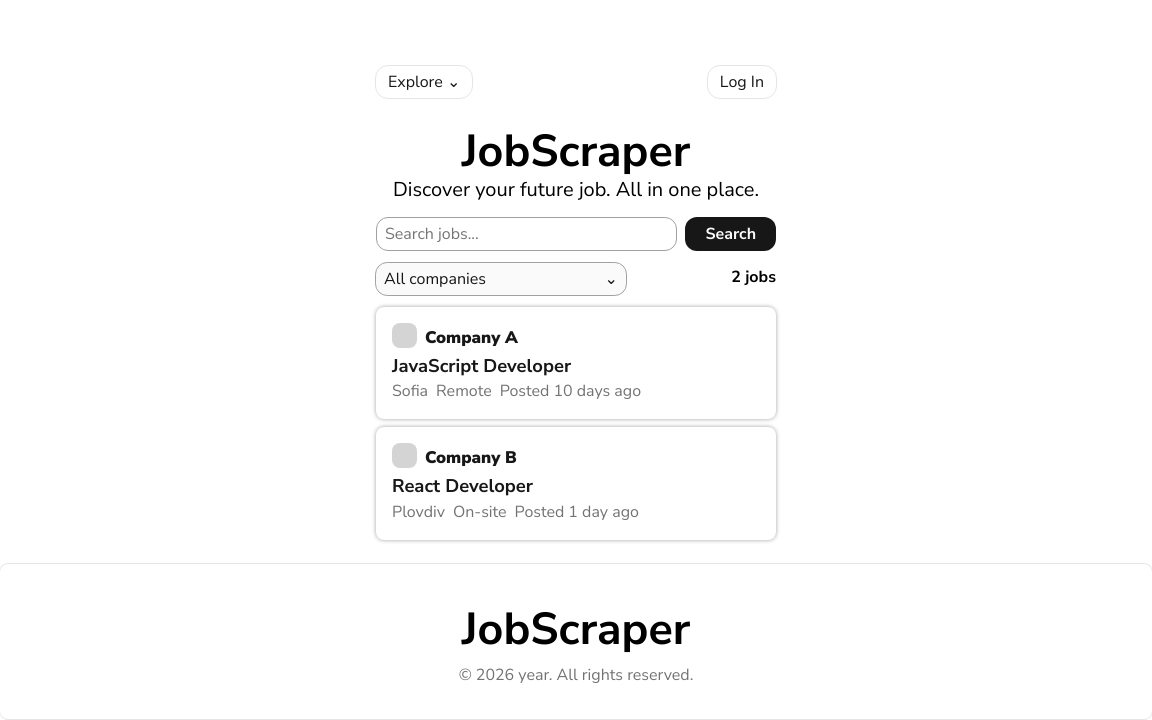
Scenario: render HomePage › should render one job for company A if you search for it
In the field named "query": (527, 234) [376,217,677,251], type "javascript"
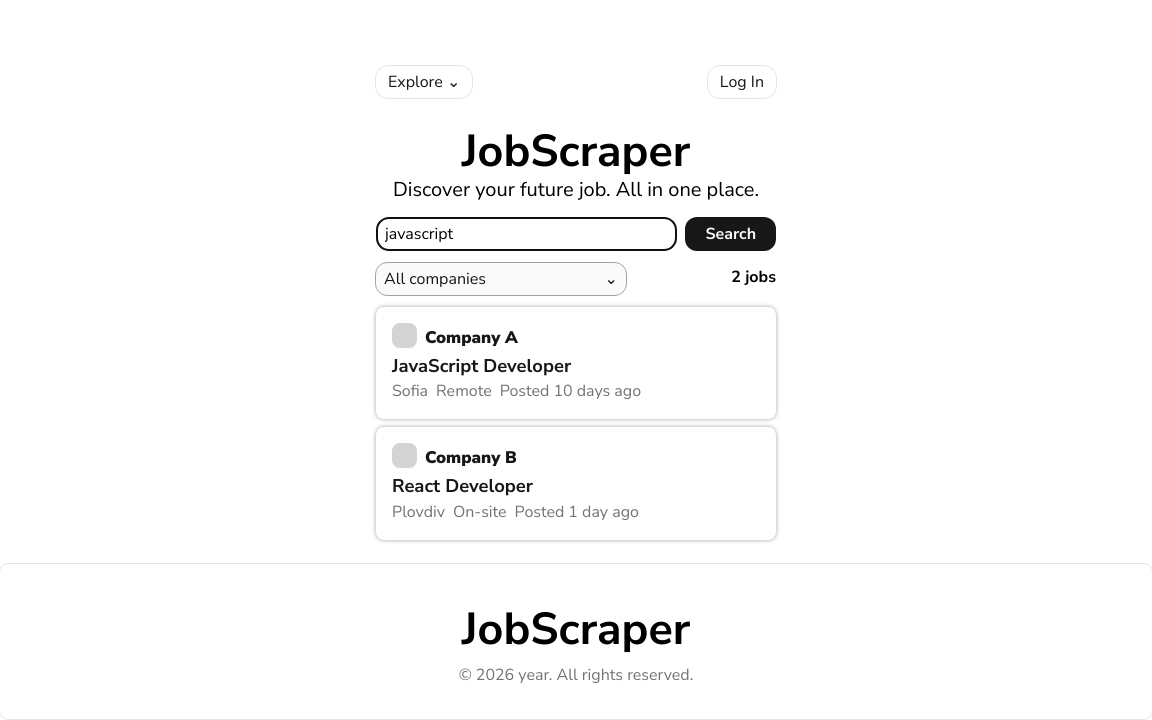
Click the button "Search": click(731, 234) [685,217,776,251]
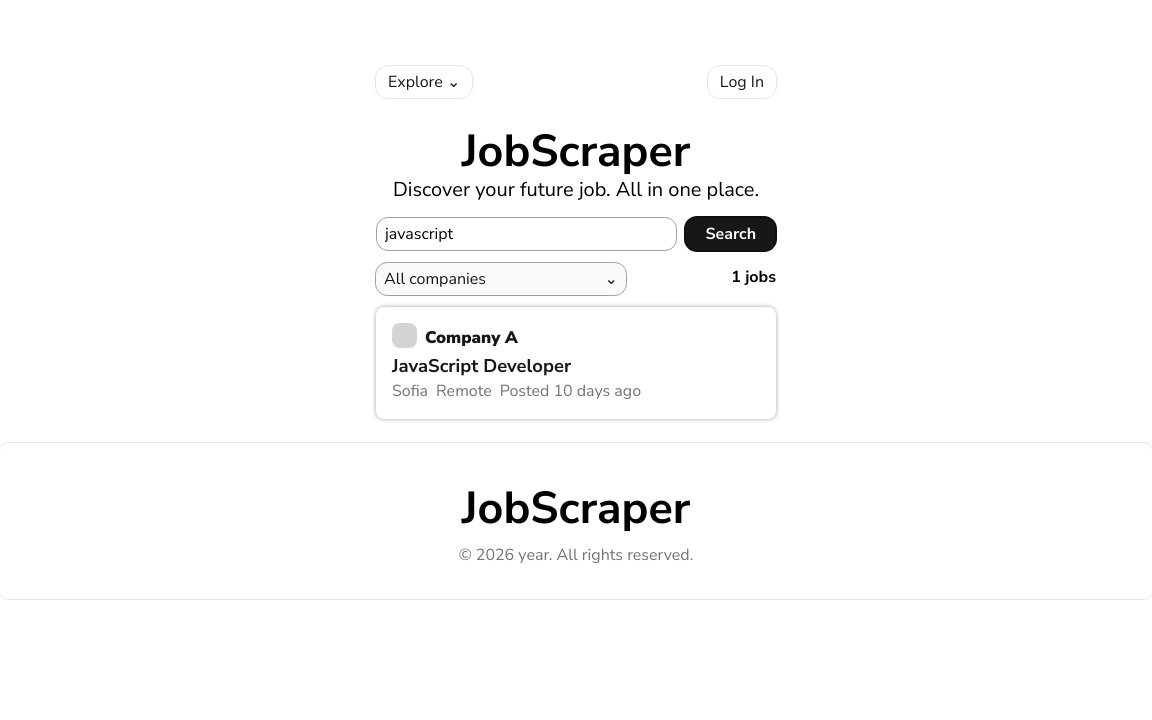
Expected: the text "All companies" is shown, [384,268,486,290]
Expected: the text "1" is shown, [731,266,741,288]
